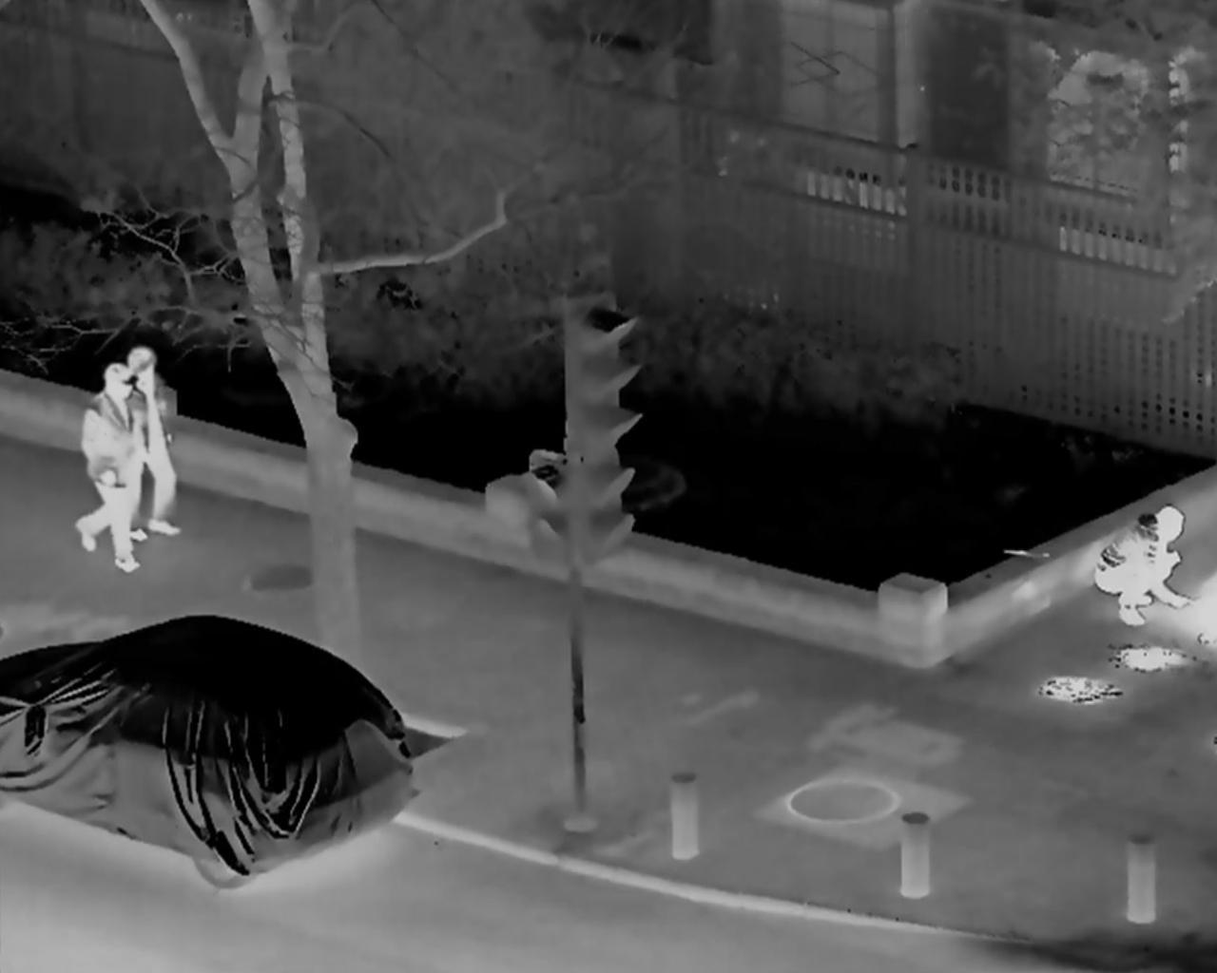person: (112, 353, 185, 544), (77, 369, 144, 575), (1090, 500, 1191, 633)
